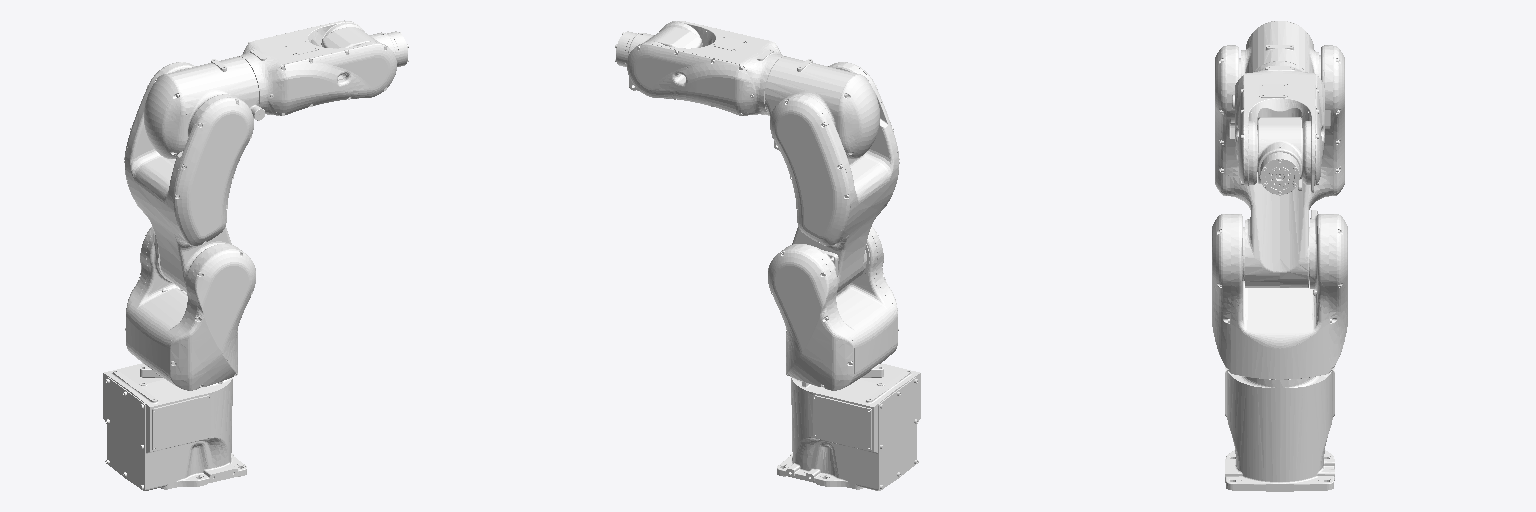
URDF robot description (Ether_CAT):
<?xml version="1.0" encoding="utf-8"?>
<!-- This URDF was automatically created by SolidWorks to URDF Exporter! Originally created by [author] ([email redacted]) 
     Commit Version: 1.6.0-4-g7f85cfe  Build Version: 1.6.7995.38578
     For more information, please see http://wiki.ros.org/sw_urdf_exporter -->
<robot
  name="Ether_CAT">
  <link
    name="base_link">
    <inertial>
      <origin
        xyz="0.0323626234835106 0.00344176950727512 0.37456834597202"
        rpy="0 0 0" />
      <mass
        value="5.83773534684926" />
      <inertia
        ixx="0.272453794753659"
        ixy="0.000708171310081887"
        ixz="-0.0875266548375106"
        iyy="0.338180677927702"
        iyz="-0.000547052114421807"
        izz="0.0863972997987517" />
    </inertial>
    <visual>
      <origin
        xyz="0 0 0"
        rpy="0 0 0" />
      <geometry>
        <mesh
          filename="package://Ether_CAT/meshes/base_link.STL" />
      </geometry>
      <material
        name="">
        <color
          rgba="1 1 1 1" />
      </material>
    </visual>
    <collision>
      <origin
        xyz="0 0 0"
        rpy="0 0 0" />
      <geometry>
        <mesh
          filename="package://Ether_CAT/meshes/base_link.STL" />
      </geometry>
    </collision>
  </link>
  <link
    name="Link_1">
    <inertial>
      <origin
        xyz="0.0323626234835106 0.00344176950727512 0.0345683459720186"
        rpy="0 0 0" />
      <mass
        value="5.83773534684926" />
      <inertia
        ixx="0.272453794753659"
        ixy="0.000708171310081887"
        ixz="-0.0875266548375106"
        iyy="0.338180677927702"
        iyz="-0.000547052114421807"
        izz="0.0863972997987517" />
    </inertial>
    <visual>
      <origin
        xyz="0 0 0"
        rpy="0 0 0" />
      <geometry>
        <mesh
          filename="package://Ether_CAT/meshes/Link_1.STL" />
      </geometry>
      <material
        name="">
        <color
          rgba="1 1 1 1" />
      </material>
    </visual>
    <collision>
      <origin
        xyz="0 0 0"
        rpy="0 0 0" />
      <geometry>
        <mesh
          filename="package://Ether_CAT/meshes/Link_1.STL" />
      </geometry>
    </collision>
  </link>
  <joint
    name="joint_1"
    type="revolute">
    <origin
      xyz="0 0 0.34"
      rpy="0 0 0" />
    <parent
      link="base_link" />
    <child
      link="Link_1" />
    <axis
      xyz="0 0 1" />
    <limit
      lower="-3.14"
      upper="3.14"
      effort="1"
      velocity="100" />
  </joint>
  <link
    name="Link_2">
    <inertial>
      <origin
        xyz="0.0347394274430952 -0.0321789080439745 -0.00344176950727598"
        rpy="0 0 0" />
      <mass
        value="5.83773534684926" />
      <inertia
        ixx="0.0854745141439858"
        ixy="0.0865353887675999"
        ixz="0.000543290126888549"
        iyy="0.273376580408425"
        iyz="0.000711061501096761"
        izz="0.338180677927702" />
    </inertial>
    <visual>
      <origin
        xyz="0 0 0"
        rpy="0 0 0" />
      <geometry>
        <mesh
          filename="package://Ether_CAT/meshes/Link_2.STL" />
      </geometry>
      <material
        name="">
        <color
          rgba="1 1 1 1" />
      </material>
    </visual>
    <collision>
      <origin
        xyz="0 0 0"
        rpy="0 0 0" />
      <geometry>
        <mesh
          filename="package://Ether_CAT/meshes/Link_2.STL" />
      </geometry>
    </collision>
  </link>
  <joint
    name="joint_2"
    type="revolute">
    <origin
      xyz="0 0 0"
      rpy="1.5708 -1.5655 0" />
    <parent
      link="Link_1" />
    <child
      link="Link_2" />
    <axis
      xyz="0 0 1" />
    <limit
      lower="-3.14"
      upper="3.14"
      effort="1"
      velocity="100" />
  </joint>
  <link
    name="Link_3">
    <inertial>
      <origin
        xyz="-0.225239174315084 -0.0321789095094738 0.0062227958241004"
        rpy="0 0 0" />
      <mass
        value="5.83773534684926" />
      <inertia
        ixx="0.085474514136001"
        ixy="0.0865353886344254"
        ixz="0.000543308649319059"
        iyy="0.273376580073512"
        iyz="0.00071104687535826"
        izz="0.3381806782706" />
    </inertial>
    <visual>
      <origin
        xyz="0 0 0"
        rpy="0 0 0" />
      <geometry>
        <mesh
          filename="package://Ether_CAT/meshes/Link_3.STL" />
      </geometry>
      <material
        name="">
        <color
          rgba="1 1 1 1" />
      </material>
    </visual>
    <collision>
      <origin
        xyz="0 0 0"
        rpy="0 0 0" />
      <geometry>
        <mesh
          filename="package://Ether_CAT/meshes/Link_3.STL" />
      </geometry>
    </collision>
  </link>
  <joint
    name="joint_3"
    type="revolute">
    <origin
      xyz="0.25998 0 -0.0096646"
      rpy="0 0 0" />
    <parent
      link="Link_2" />
    <child
      link="Link_3" />
    <axis
      xyz="0.00049083 -0.092586 0.9957" />
    <limit
      lower="-3.14"
      upper="3.14"
      effort="1"
      velocity="100" />
  </joint>
  <link
    name="Link_4">
    <inertial>
      <origin
        xyz="-0.25043165405061 -0.00339176783593207 -0.247637376514835"
        rpy="0 0 0" />
      <mass
        value="5.83773534684926" />
      <inertia
        ixx="0.0863972998060541"
        ixy="0.00054705379490502"
        ixz="-0.0875266548422372"
        iyy="0.338180677920399"
        iyz="-0.0007081707259011"
        izz="0.272453794753659" />
    </inertial>
    <visual>
      <origin
        xyz="0 0 0"
        rpy="0 0 0" />
      <geometry>
        <mesh
          filename="package://Ether_CAT/meshes/Link_4.STL" />
      </geometry>
      <material
        name="">
        <color
          rgba="1 1 1 1" />
      </material>
    </visual>
    <collision>
      <origin
        xyz="0 0 0"
        rpy="0 0 0" />
      <geometry>
        <mesh
          filename="package://Ether_CAT/meshes/Link_4.STL" />
      </geometry>
    </collision>
  </link>
  <joint
    name="joint_4"
    type="revolute">
    <origin
      xyz="0.026502 -0.27849 0.0096145"
      rpy="1.5708 0 0.0053014" />
    <parent
      link="Link_3" />
    <child
      link="Link_4" />
    <axis
      xyz="0 0 1" />
    <limit
      lower="-3.14"
      upper="3.14"
      effort="1"
      velocity="100" />
  </joint>
  <link
    name="Link_5">
    <inertial>
      <origin
        xyz="-0.247637376514835 0.250431654027991 0.00339176950733451"
        rpy="0 0 0" />
      <mass
        value="5.83773534684926" />
      <inertia
        ixx="0.272453794753659"
        ixy="0.0875266548375105"
        ixz="0.000708171310101708"
        iyy="0.0863972997987514"
        iyz="0.000547052114364795"
        izz="0.338180677927702" />
    </inertial>
    <visual>
      <origin
        xyz="0 0 0"
        rpy="0 0 0" />
      <geometry>
        <mesh
          filename="package://Ether_CAT/meshes/Link_5.STL" />
      </geometry>
      <material
        name="">
        <color
          rgba="1 1 1 1" />
      </material>
    </visual>
    <collision>
      <origin
        xyz="0 0 0"
        rpy="0 0 0" />
      <geometry>
        <mesh
          filename="package://Ether_CAT/meshes/Link_5.STL" />
      </geometry>
    </collision>
  </link>
  <joint
    name="joint_5"
    type="revolute">
    <origin
      xyz="0 0 0"
      rpy="1.5708 -1.5708 0" />
    <parent
      link="Link_4" />
    <child
      link="Link_5" />
    <axis
      xyz="0 0 1" />
    <limit
      lower="-3.14"
      upper="3.14"
      effort="1"
      velocity="100" />
  </joint>
  <link
    name="Link_6">
    <inertial>
      <origin
        xyz="0.250431654027986 0.0033917695072157 -0.326637376516478"
        rpy="0 0 0" />
      <mass
        value="5.83773534684926" />
      <inertia
        ixx="0.0863972997987517"
        ixy="0.000547052114421802"
        ixz="0.0875266548375106"
        iyy="0.338180677927702"
        iyz="0.000708171310081891"
        izz="0.272453794753659" />
    </inertial>
    <visual>
      <origin
        xyz="0 0 0"
        rpy="0 0 0" />
      <geometry>
        <mesh
          filename="package://Ether_CAT/meshes/Link_6.STL" />
      </geometry>
      <material
        name="">
        <color
          rgba="1 1 1 1" />
      </material>
    </visual>
    <collision>
      <origin
        xyz="0 0 0"
        rpy="0 0 0" />
      <geometry>
        <mesh
          filename="package://Ether_CAT/meshes/Link_6.STL" />
      </geometry>
    </collision>
  </link>
  <joint
    name="joint_6"
    type="revolute">
    <origin
      xyz="0.079 0 0"
      rpy="1.5708 0 1.5708" />
    <parent
      link="Link_5" />
    <child
      link="Link_6" />
    <axis
      xyz="0 0 -1" />
    <limit
      lower="-1000"
      upper="1000"
      effort="1"
      velocity="100" />
  </joint>
</robot>

--- Facts derived from the render (not from the file) ---
3 views of the same robot in one strip: view 1: azimuth 30°, elevation 25°; view 2: azimuth 150°, elevation 25°; view 3: azimuth 270°, elevation 25° (orthographic).
Model Ether_CAT with 7 links and 6 joints (6 revolute), rooted at base_link, posed every joint at zero.
Visible links, largest first — view 1: Link_2, Link_1, base_link, Link_4, Link_3, Link_5; view 2: Link_1, Link_2, base_link, Link_4, Link_3, Link_5; view 3: Link_1, Link_2, base_link, Link_4, Link_3, Link_5, Link_6.
Boxes of the visible links, x1,y1,x2,y2 form: Link_2: (124,62,253,292); Link_1: (125,227,255,390); base_link: (103,363,246,490); Link_4: (237,20,396,115); Link_3: (144,56,265,158); Link_5: (321,27,395,55); Link_1: (768,227,898,390); Link_2: (770,62,899,292); base_link: (777,363,920,490); Link_4: (627,21,786,115); Link_3: (765,57,879,158); Link_5: (628,27,702,55); Link_1: (1212,210,1347,379); Link_2: (1215,45,1344,287); base_link: (1225,367,1334,491); Link_4: (1235,61,1324,192); Link_3: (1232,21,1320,108); Link_5: (1258,117,1301,190); Link_6: (1260,152,1299,195).
Bounding box of the posed robot: 0.4967 × 0.1891 × 0.6741 m (x, y, z).
Meshes: 7 distinct files referenced, 7 mesh visuals loaded (7 binary STL).